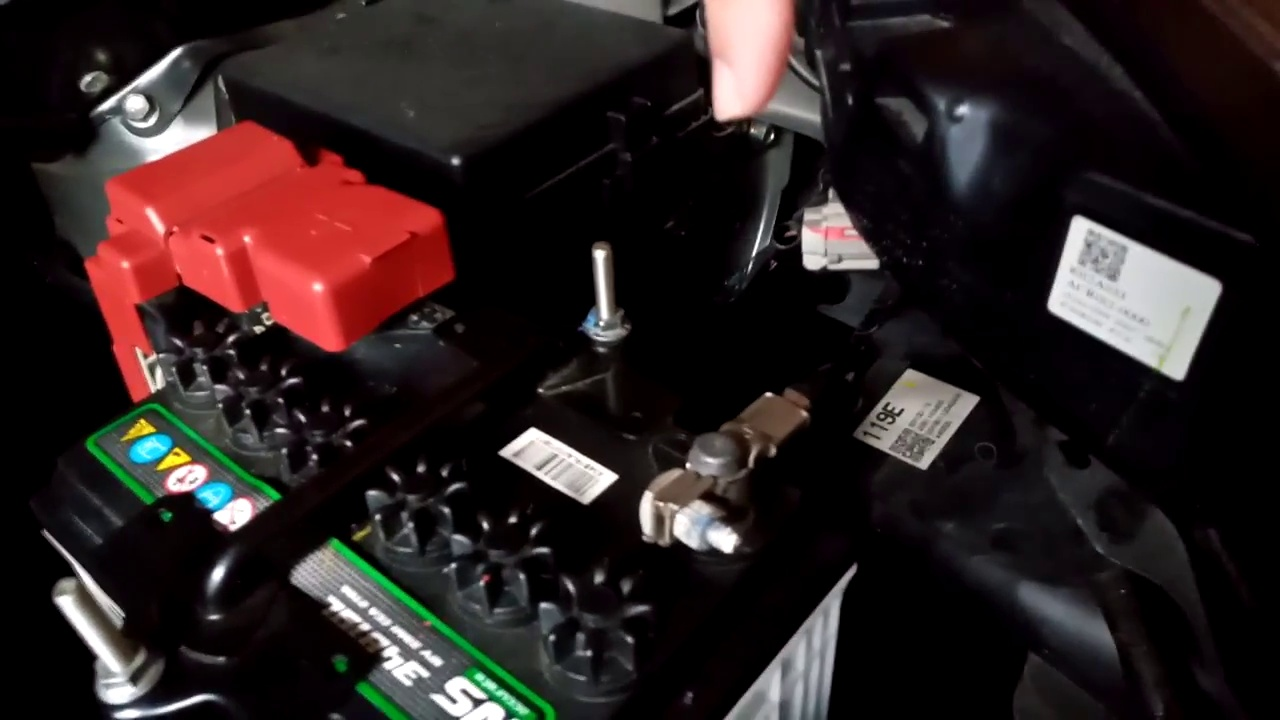battery: (14, 186, 859, 720)
neg_connected: (603, 343, 835, 582)
pos_connected: (32, 172, 448, 409)
